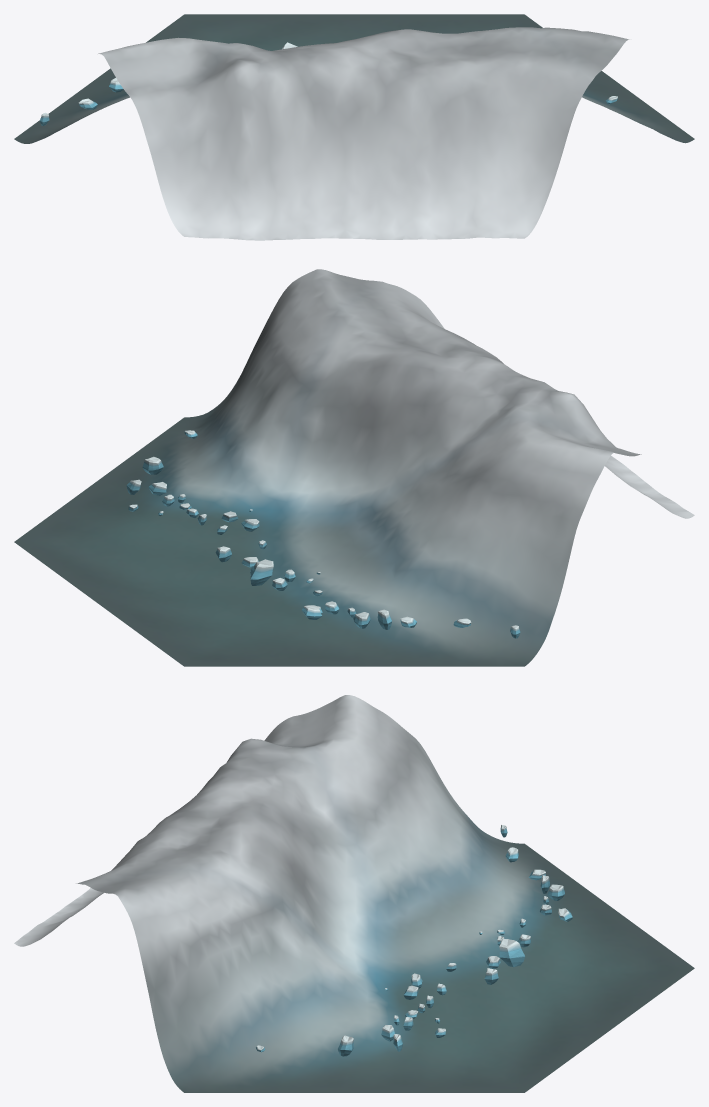
File: costa_+06_-10.glb
3 renders of one model, top to bottom at view 1: azimuth 30°, elevation 25°; view 2: azimuth 150°, elevation 25°; view 3: azimuth 270°, elevation 25°, orthographic.
Parts seen in each view (by area): view 1: terrain, Formações costeiras; view 2: terrain, Formações costeiras; view 3: terrain, Formações costeiras.
Boxes of the visible parts, bbox=[...] form: terrain: bbox=[14, 14, 694, 240]; Formações costeiras: bbox=[39, 42, 617, 125]; terrain: bbox=[14, 269, 694, 666]; Formações costeiras: bbox=[126, 430, 520, 638]; terrain: bbox=[14, 695, 694, 1092]; Formações costeiras: bbox=[256, 825, 572, 1056].
Bounding box in the file's own units: 4330 × 1247 × 5000.
Materials: 1 (1 with a texture image).
